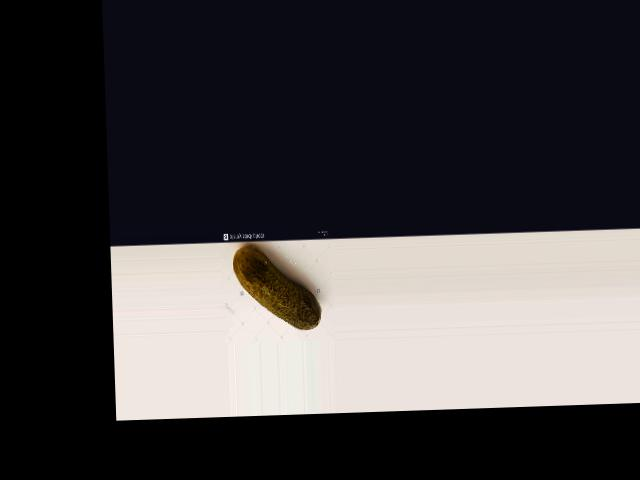cucumber: (232, 243, 322, 331)
